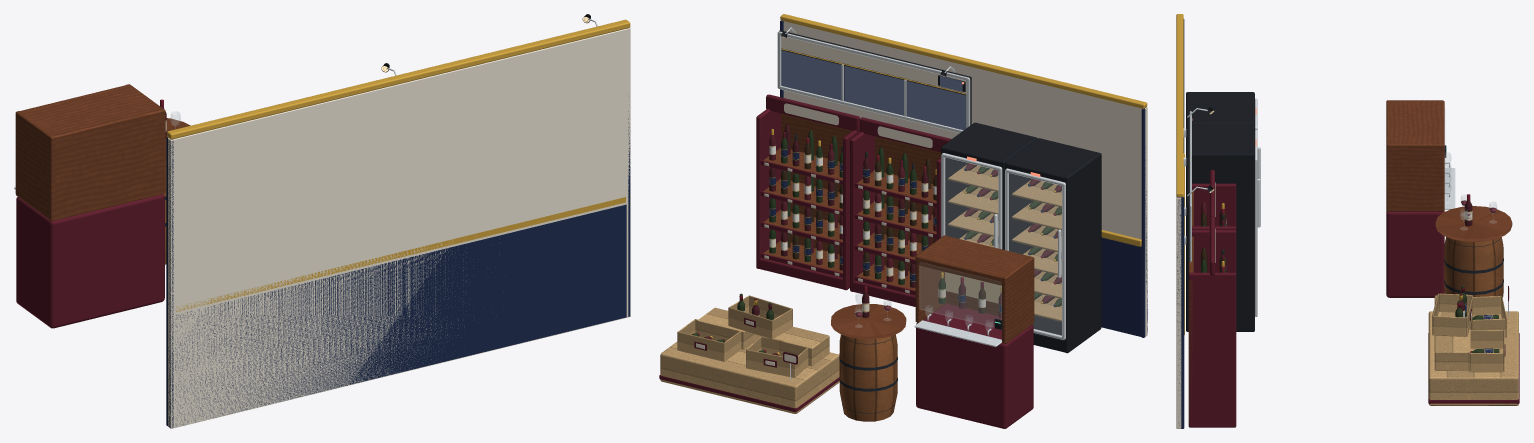
The model's file is sector-adega_T3.fbx.
The picture shows the model from 3 angles, left to right: view 1: azimuth 30°, elevation 25°; view 2: azimuth 150°, elevation 25°; view 3: azimuth 270°, elevation 25°; orthographic projection. The views are drawn at different scales.
Visible parts, largest first — view 1: Back Wall, Body; view 2: Body, Back Wall, Wall Dressing; view 3: Body, Back Wall, Wall Dressing.
Part boxes in pixels (x1=…): Back Wall: x1=166, y1=19, x2=630, y2=428; Body: x1=14, y1=84, x2=190, y2=328; Body: x1=659, y1=94, x2=1101, y2=428; Back Wall: x1=780, y1=14, x2=1147, y2=337; Wall Dressing: x1=777, y1=27, x2=971, y2=132; Body: x1=1186, y1=92, x2=1519, y2=427; Back Wall: x1=1176, y1=14, x2=1184, y2=428; Wall Dressing: x1=1183, y1=107, x2=1214, y2=262.
Bounding box in the file's own units: 4 × 2.48 × 3.23.
